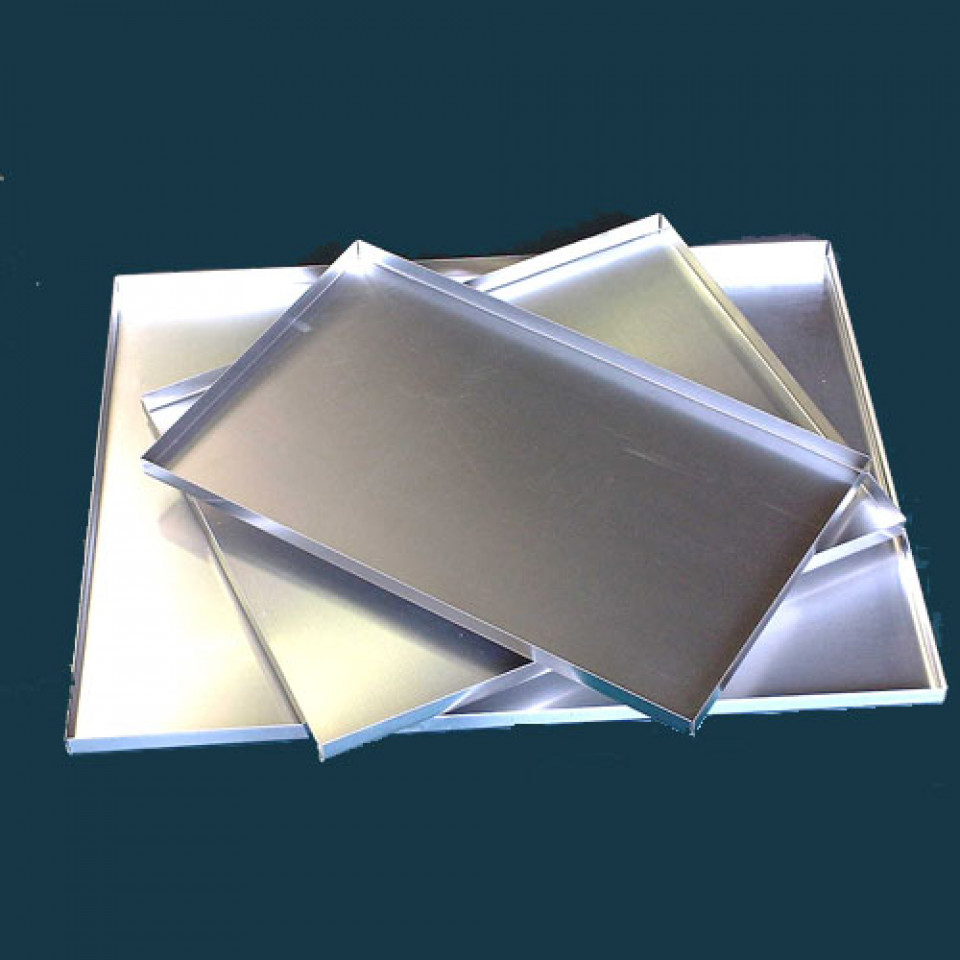metal: (62, 233, 948, 773), (139, 238, 873, 742)
